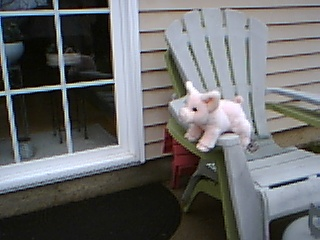piggy: (175, 79, 253, 153)
